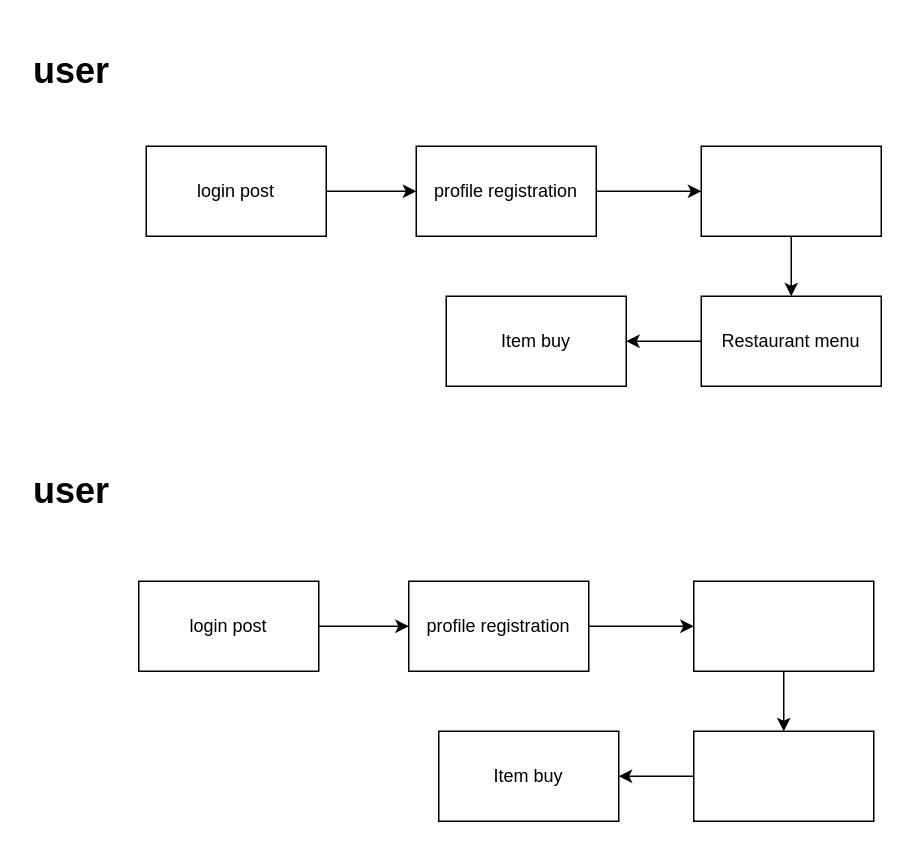
The diagram is 908 pixels wide and 848 high, and some of its shapes have lost their labels. The box of each missing label's shape, as (x1, y1, x2, y2) in pixels:
Maker: (692, 730, 874, 821)
Menu maker dashboard: (692, 580, 874, 671)
restaurants page: (700, 145, 881, 236)
